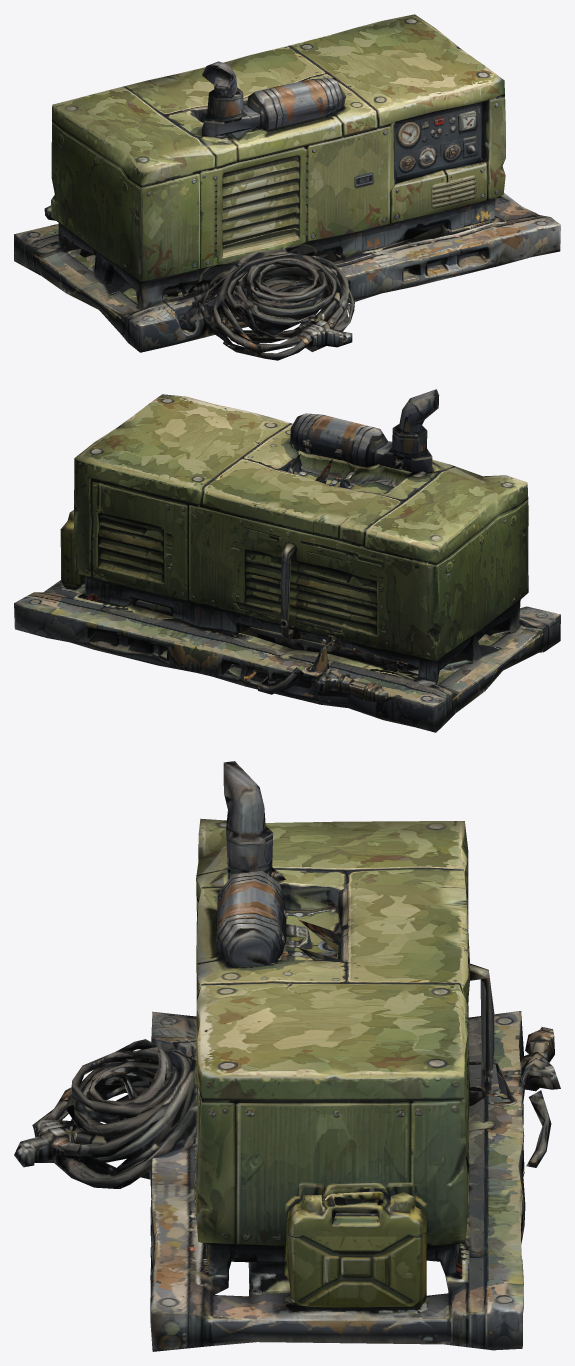
Rendered from EX_Mil_Generator.fbx.
The picture shows the model from 3 angles, top to bottom: view 1: azimuth 30°, elevation 25°; view 2: azimuth 150°, elevation 25°; view 3: azimuth 270°, elevation 25°; orthographic projection. The views are drawn at different scales.
Visible parts, largest first — view 1: texture_mapping; view 2: texture_mapping; view 3: texture_mapping.
Boxes of the visible parts, x1=… form: texture_mapping: x1=14, y1=14, x2=560, y2=360; texture_mapping: x1=14, y1=389, x2=560, y2=732; texture_mapping: x1=14, y1=761, x2=560, y2=1351.
Bounding box in the file's own units: 1 × 0.7678 × 0.565.
Materials: 1 (1 with a texture image).
